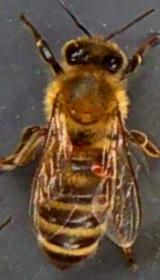varroa_mite: (89, 150, 112, 182)
